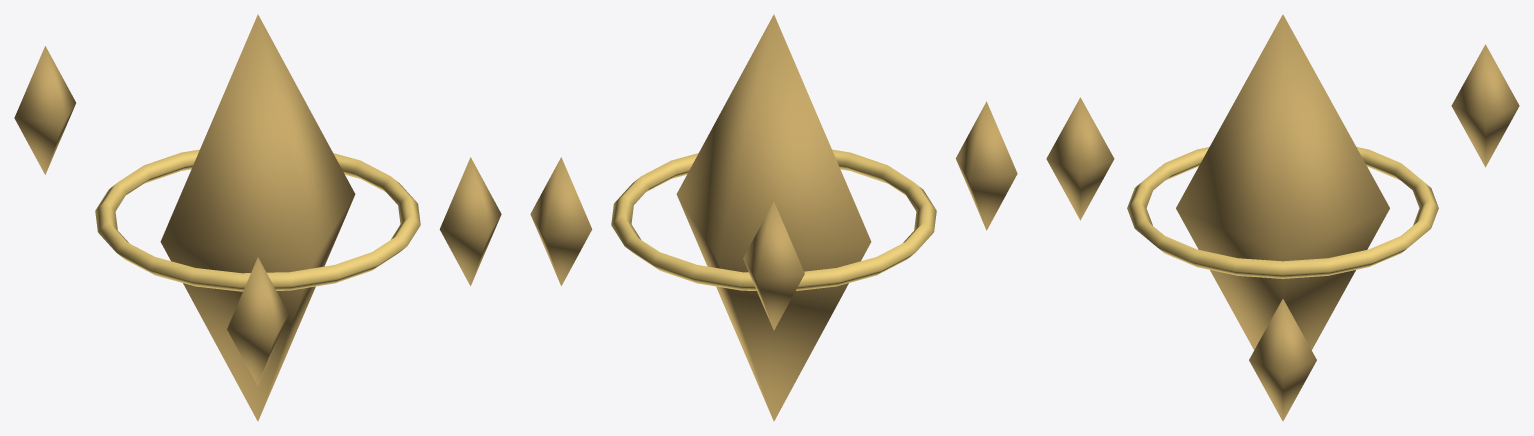
The model's file is pickup_xp.glb.
The picture shows the model from 3 angles, left to right: view 1: azimuth 30°, elevation 25°; view 2: azimuth 150°, elevation 25°; view 3: azimuth 270°, elevation 25°; orthographic projection. The views are drawn at different scales.
Parts seen in each view (by area): view 1: glow*0.55, gold, glow*0.002, glow*0.001, glow*0.003; view 2: glow*0.55, gold, glow*0.003, glow*0.002, glow*0.001; view 3: glow*0.55, gold, glow*0.002, glow*0.003, glow*0.001.
Part boxes in pixels (x1,y1,x2,y2): glow*0.55: (160,14,355,421); gold: (95,149,420,291); glow*0.002: (227,257,288,385); glow*0.001: (439,157,501,286); glow*0.003: (14,46,75,174); glow*0.55: (676,14,871,421); gold: (611,149,936,290); glow*0.003: (743,202,804,330); glow*0.002: (955,101,1017,230); glow*0.001: (530,157,592,286); glow*0.55: (1176,14,1389,349); gold: (1127,147,1438,278); glow*0.002: (1046,97,1114,220); glow*0.003: (1451,44,1519,167); glow*0.001: (1249,299,1316,421).
Size of the model in its own units: 0.435 by 0.44 by 0.4857.
